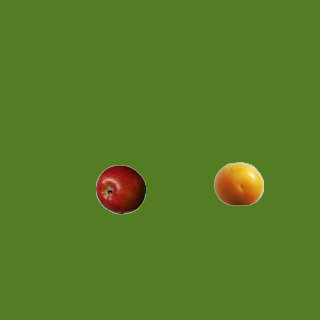Apple Braeburn: (95, 164, 145, 214)
Cherry Wax Yellow: (213, 158, 263, 208)
